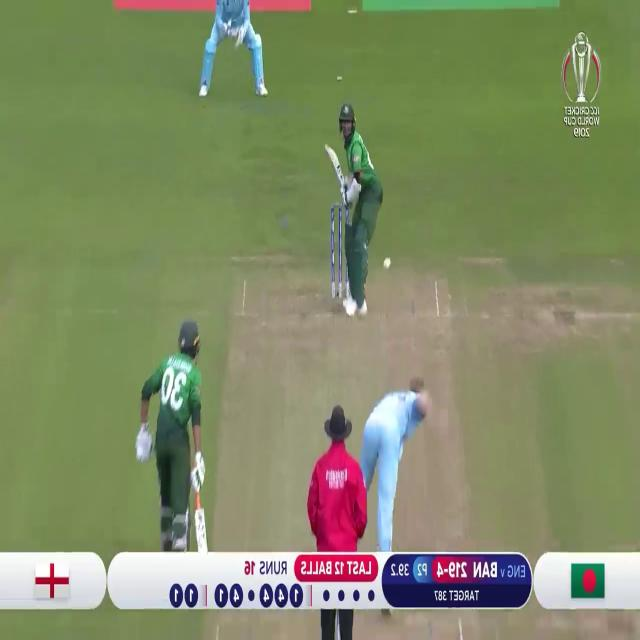ball: (382, 253, 394, 272)
